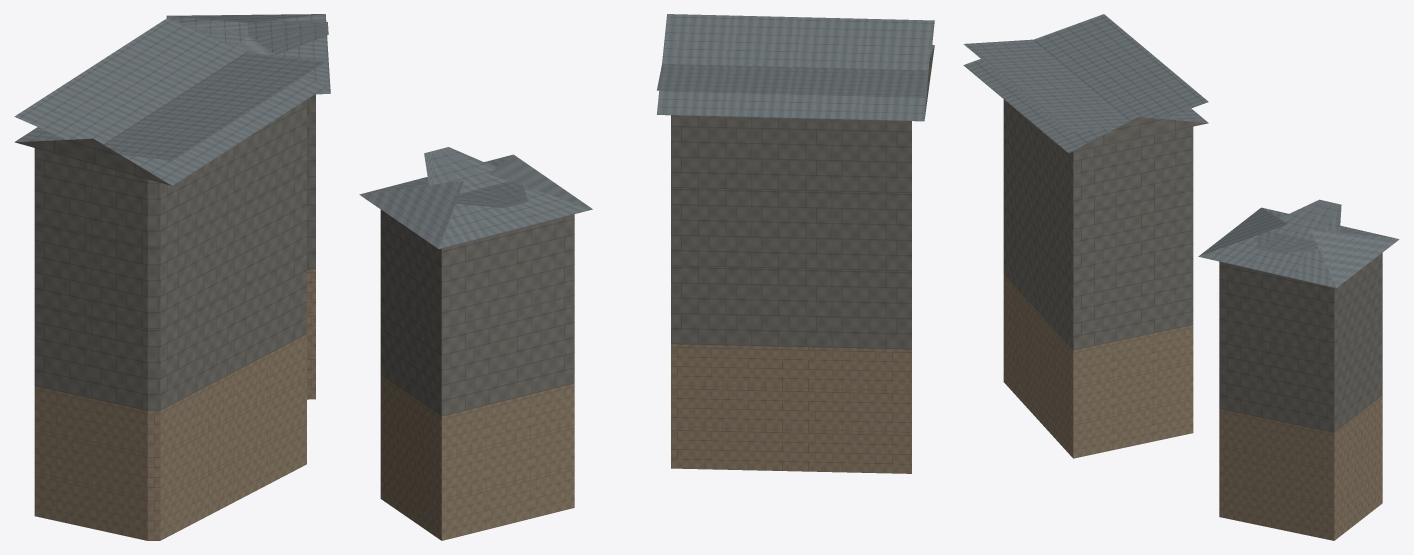
File: bld_c-18_18_514.gltf
The picture shows the model from 3 angles, left to right: view 1: azimuth 30°, elevation 25°; view 2: azimuth 150°, elevation 25°; view 3: azimuth 270°, elevation 25°; orthographic projection. The views are drawn at different scales.
Visible parts, largest first — view 1: bld_c-18_18_514; view 2: bld_c-18_18_514; view 3: bld_c-18_18_514.
Boxes of the visible parts, <box> form: bld_c-18_18_514: <box>14,14,330,540</box>; bld_c-18_18_514: <box>359,14,934,540</box>; bld_c-18_18_514: <box>963,14,1399,540</box>.
Size of the model in its own units: 18.5 by 16.6 by 18.63.
4 materials, 4 textured.
